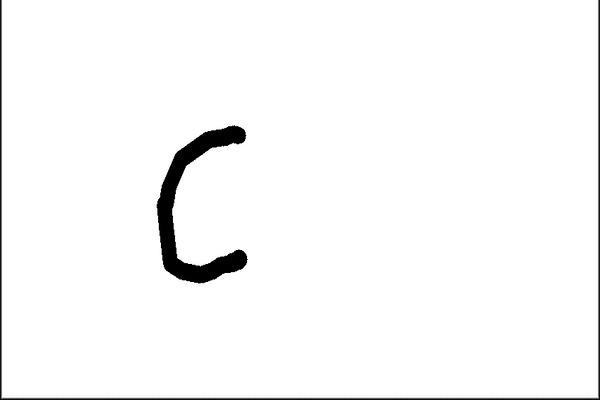C: (150, 119, 254, 286)
